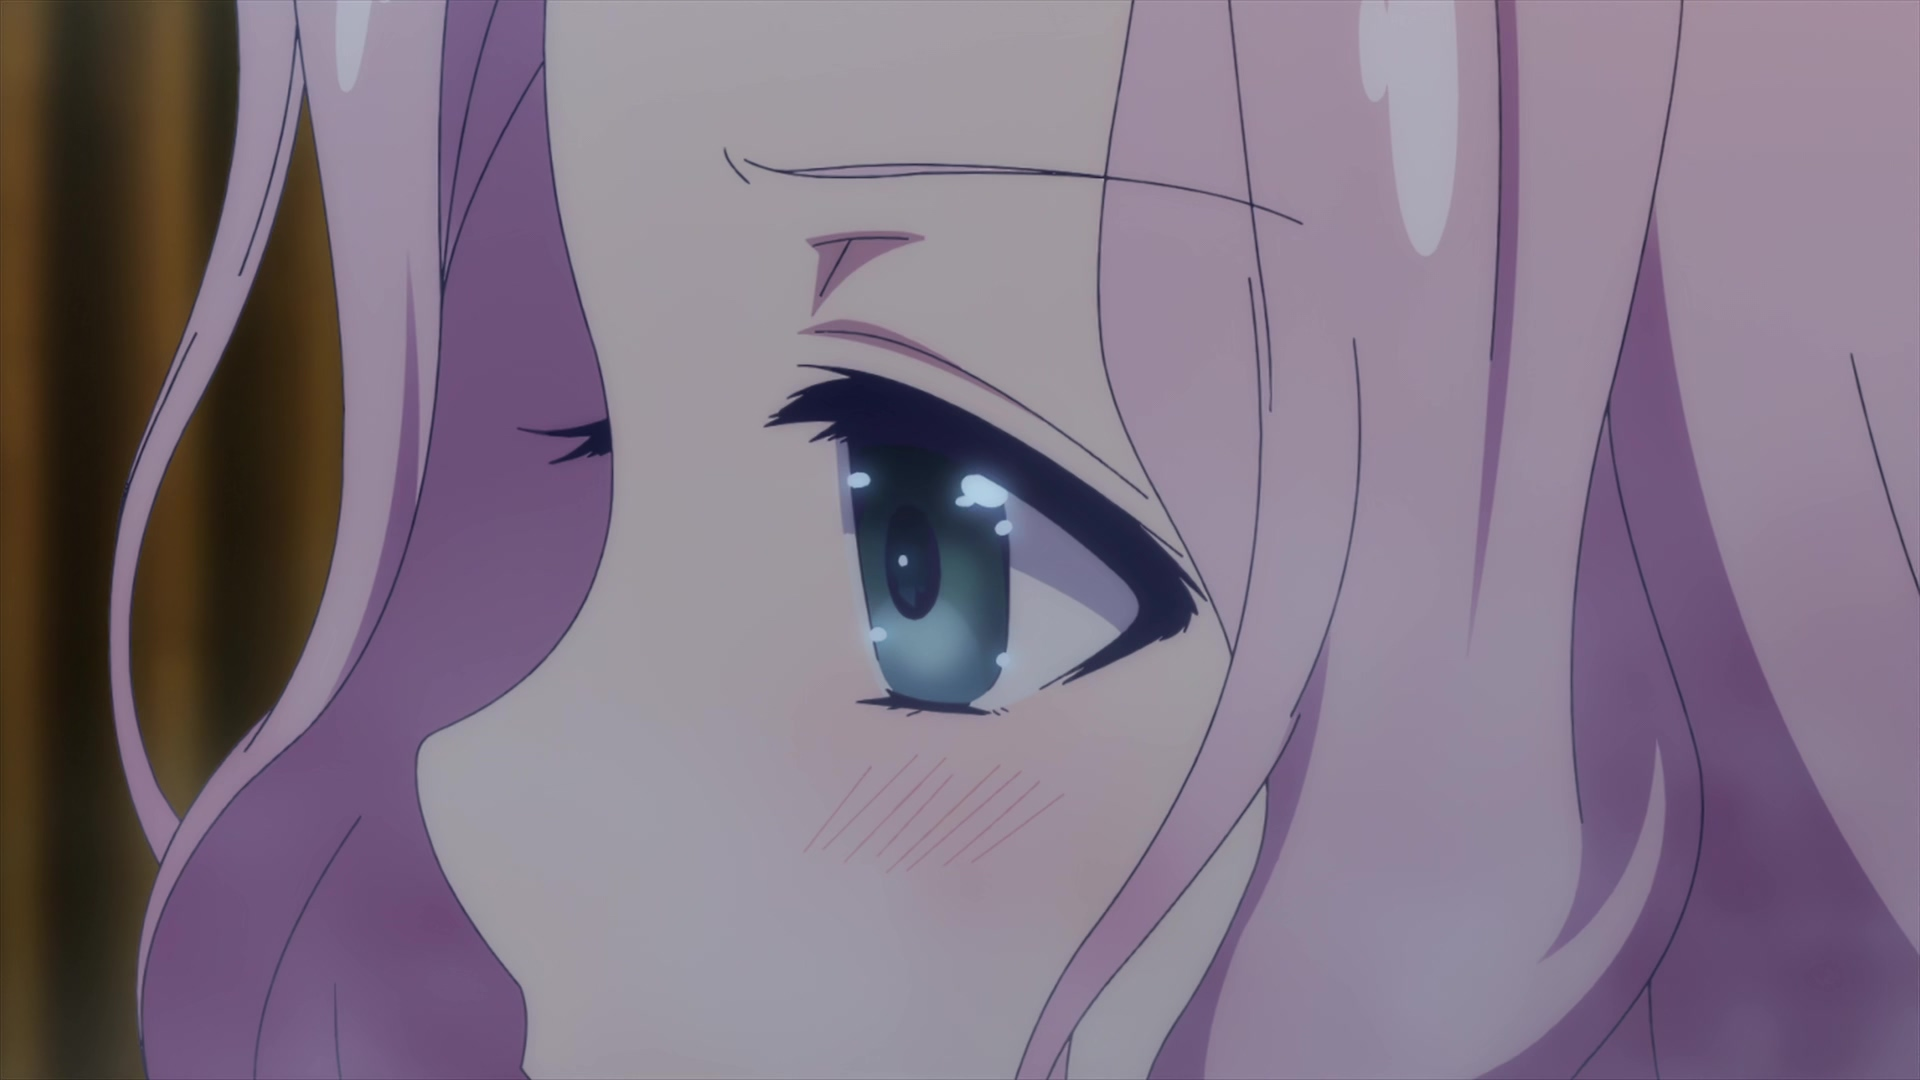莲: (109, 1, 1920, 1080)
